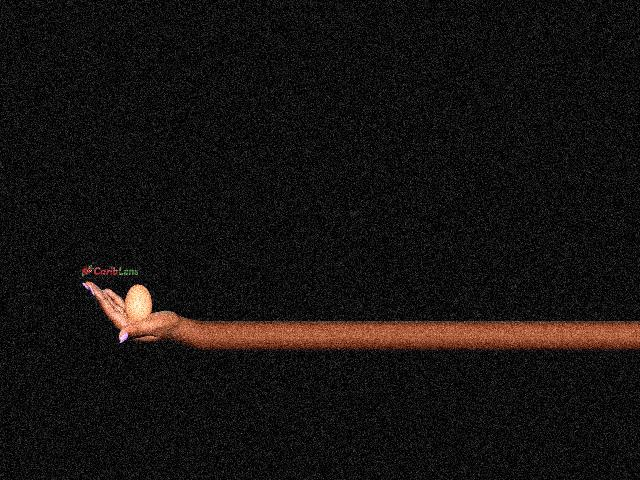egg: (124, 284, 152, 321)
